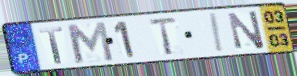1: (112, 20, 137, 60)
I: (209, 11, 226, 54)
M: (64, 20, 116, 64)
N: (225, 9, 267, 51)
T: (148, 16, 180, 57), (37, 25, 65, 65)
